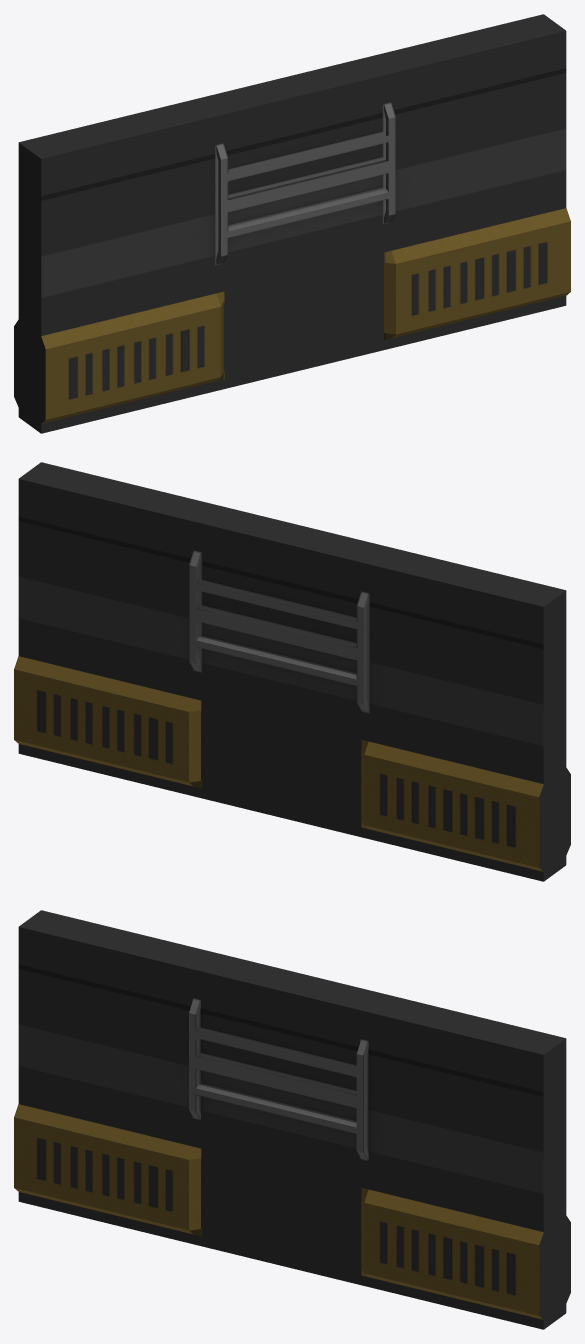
File: Wall_04.fbx
The picture shows the model from 3 angles, top to bottom: view 1: azimuth 30°, elevation 25°; view 2: azimuth 150°, elevation 25°; view 3: azimuth 330°, elevation 25°; orthographic projection.
Visible parts, largest first — view 1: Wall_04 Low Poly; view 2: Wall_04 Low Poly; view 3: Wall_04 Low Poly.
Boxes of the visible parts, bbox=[...] form: Wall_04 Low Poly: bbox=[14, 14, 570, 433]; Wall_04 Low Poly: bbox=[14, 462, 570, 881]; Wall_04 Low Poly: bbox=[14, 910, 570, 1329].
Bounding box in the file's own units: 400 × 200 × 42.15.
1 material, 1 textured.
